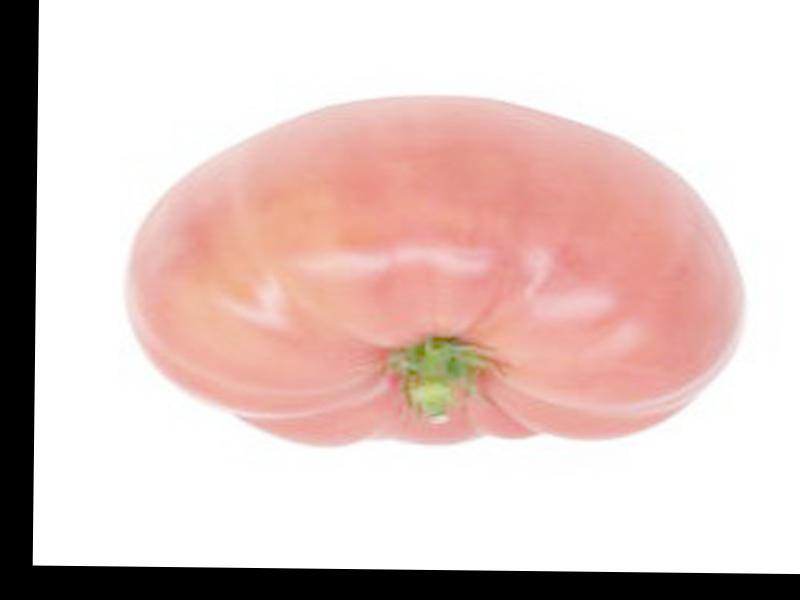Tomato: (123, 95, 744, 443)
